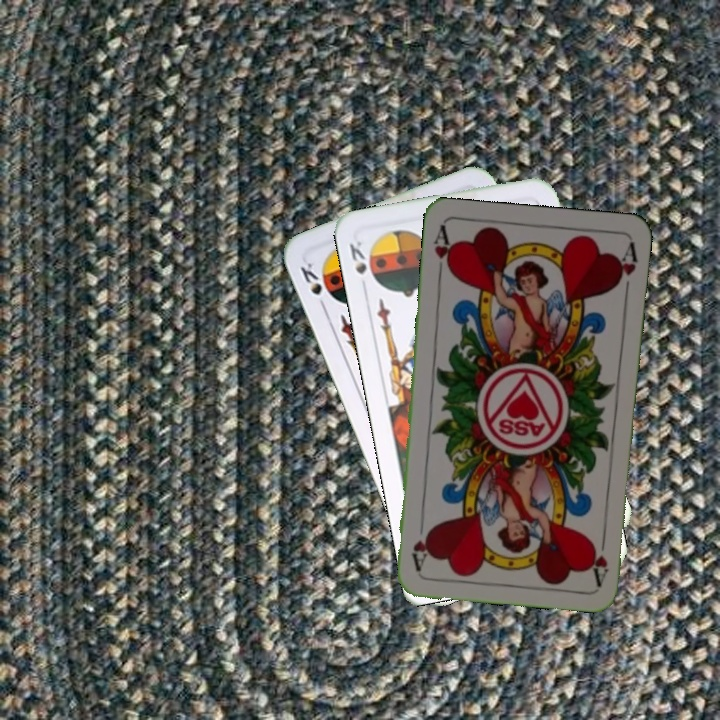HA: (430, 222, 456, 282), (588, 528, 611, 587)
SK: (296, 258, 329, 314), (345, 236, 369, 277)
